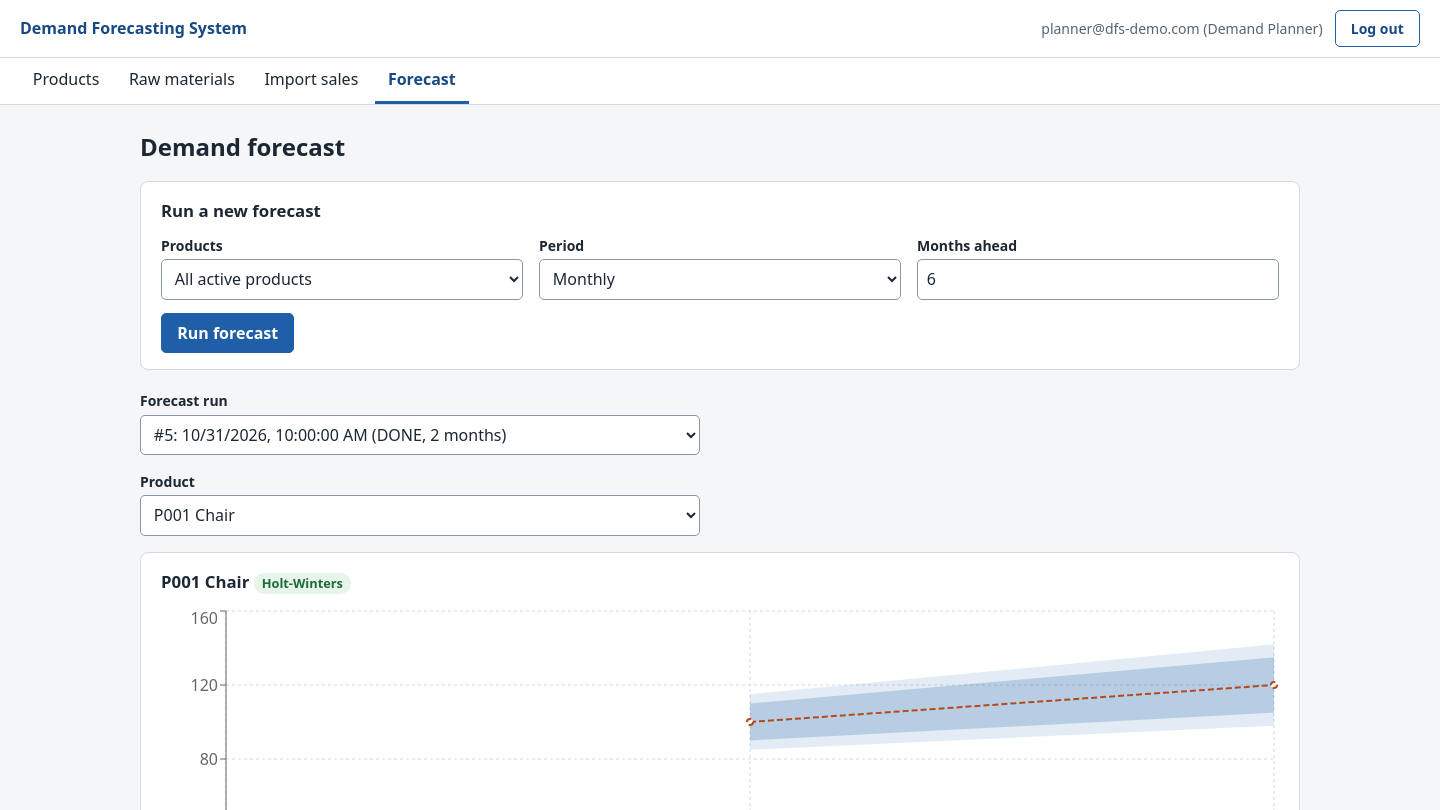
it: forecast page › shows why a run could not start
Step 1. Click the button "Run forecast" → (228,333), box [161,313,294,354]
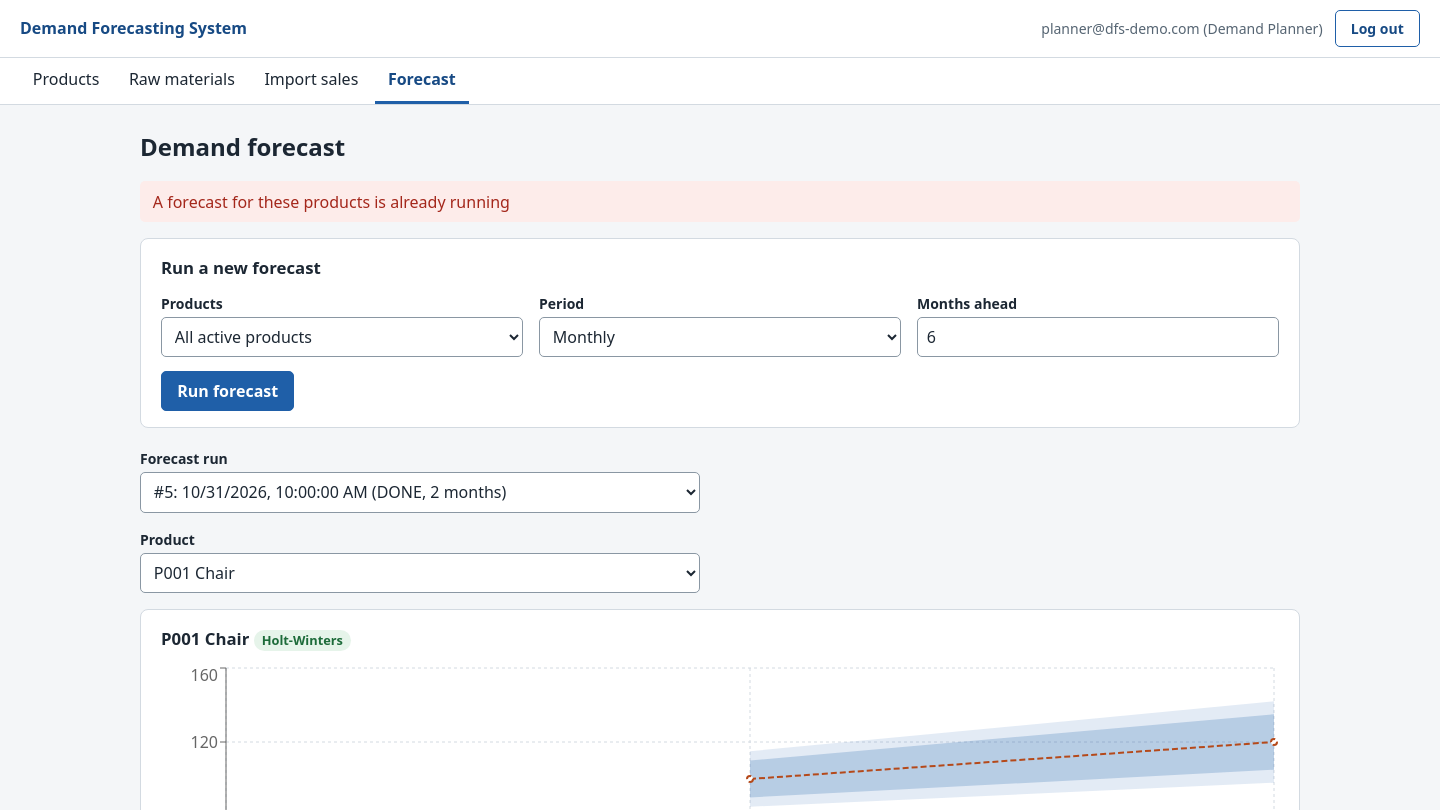
expect the message shows "already running": met, box [153,190,510,212]
